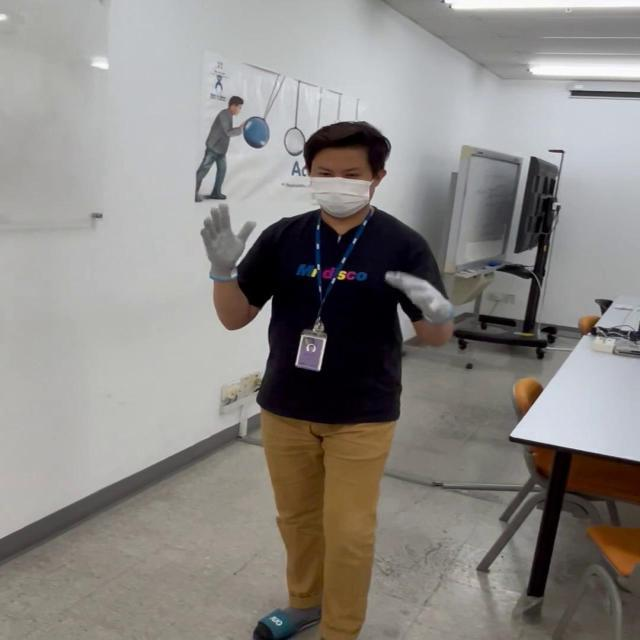gloved_hand: (388, 252, 452, 325), (201, 198, 254, 286)
